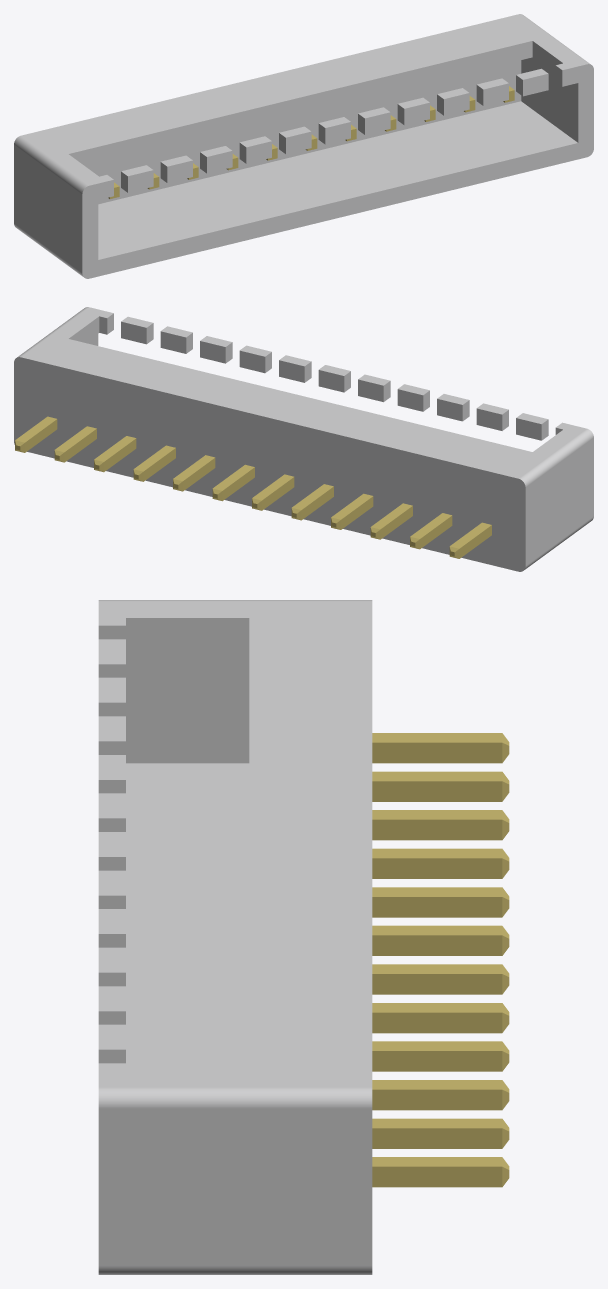
Rendered from jst_ph_12pin.glb.
The picture shows the model from 3 angles, top to bottom: view 1: azimuth 30°, elevation 25°; view 2: azimuth 150°, elevation 25°; view 3: azimuth 270°, elevation 25°; orthographic projection. The views are drawn at different scales.
Visible parts, largest first — view 1: world; view 2: world; view 3: world.
Boxes of the visible parts, x1,y1,x2,y2 form: world: (14, 14, 593, 278); world: (14, 307, 593, 571); world: (98, 600, 509, 1274).
Bounding box in the file's own units: 25.9 × 4.5 × 9.
